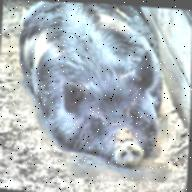boar: (0, 0, 176, 183)
